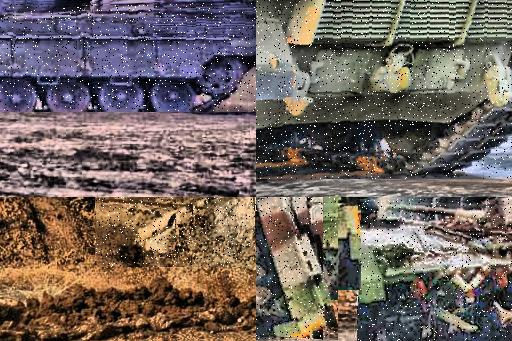tanks: (257, 1, 512, 169), (1, 5, 257, 112), (359, 199, 512, 341), (257, 198, 339, 341), (98, 198, 257, 268)
